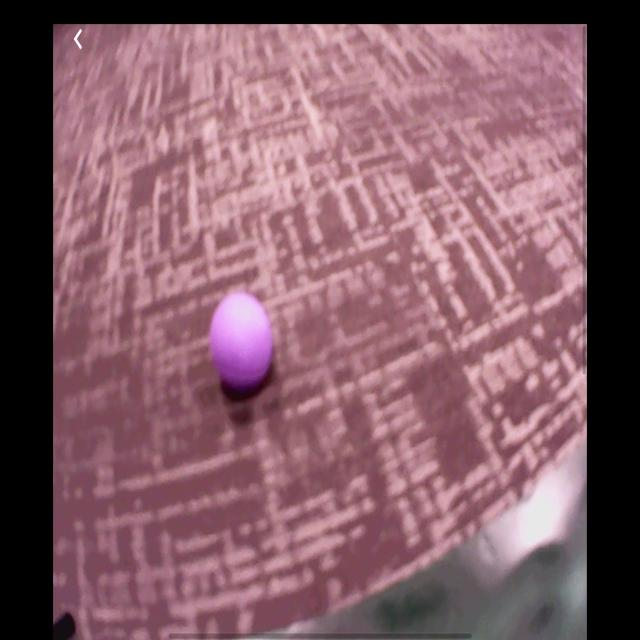ball: (213, 296, 272, 387)
